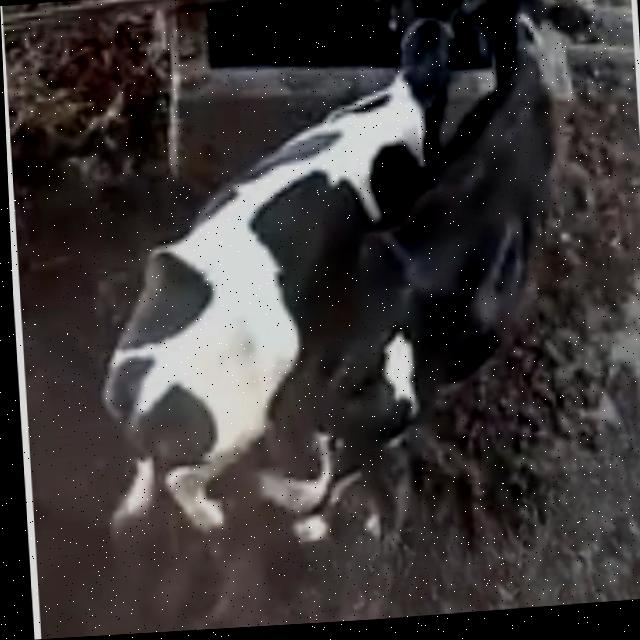drink: (349, 0, 486, 96), (468, 0, 571, 101)
